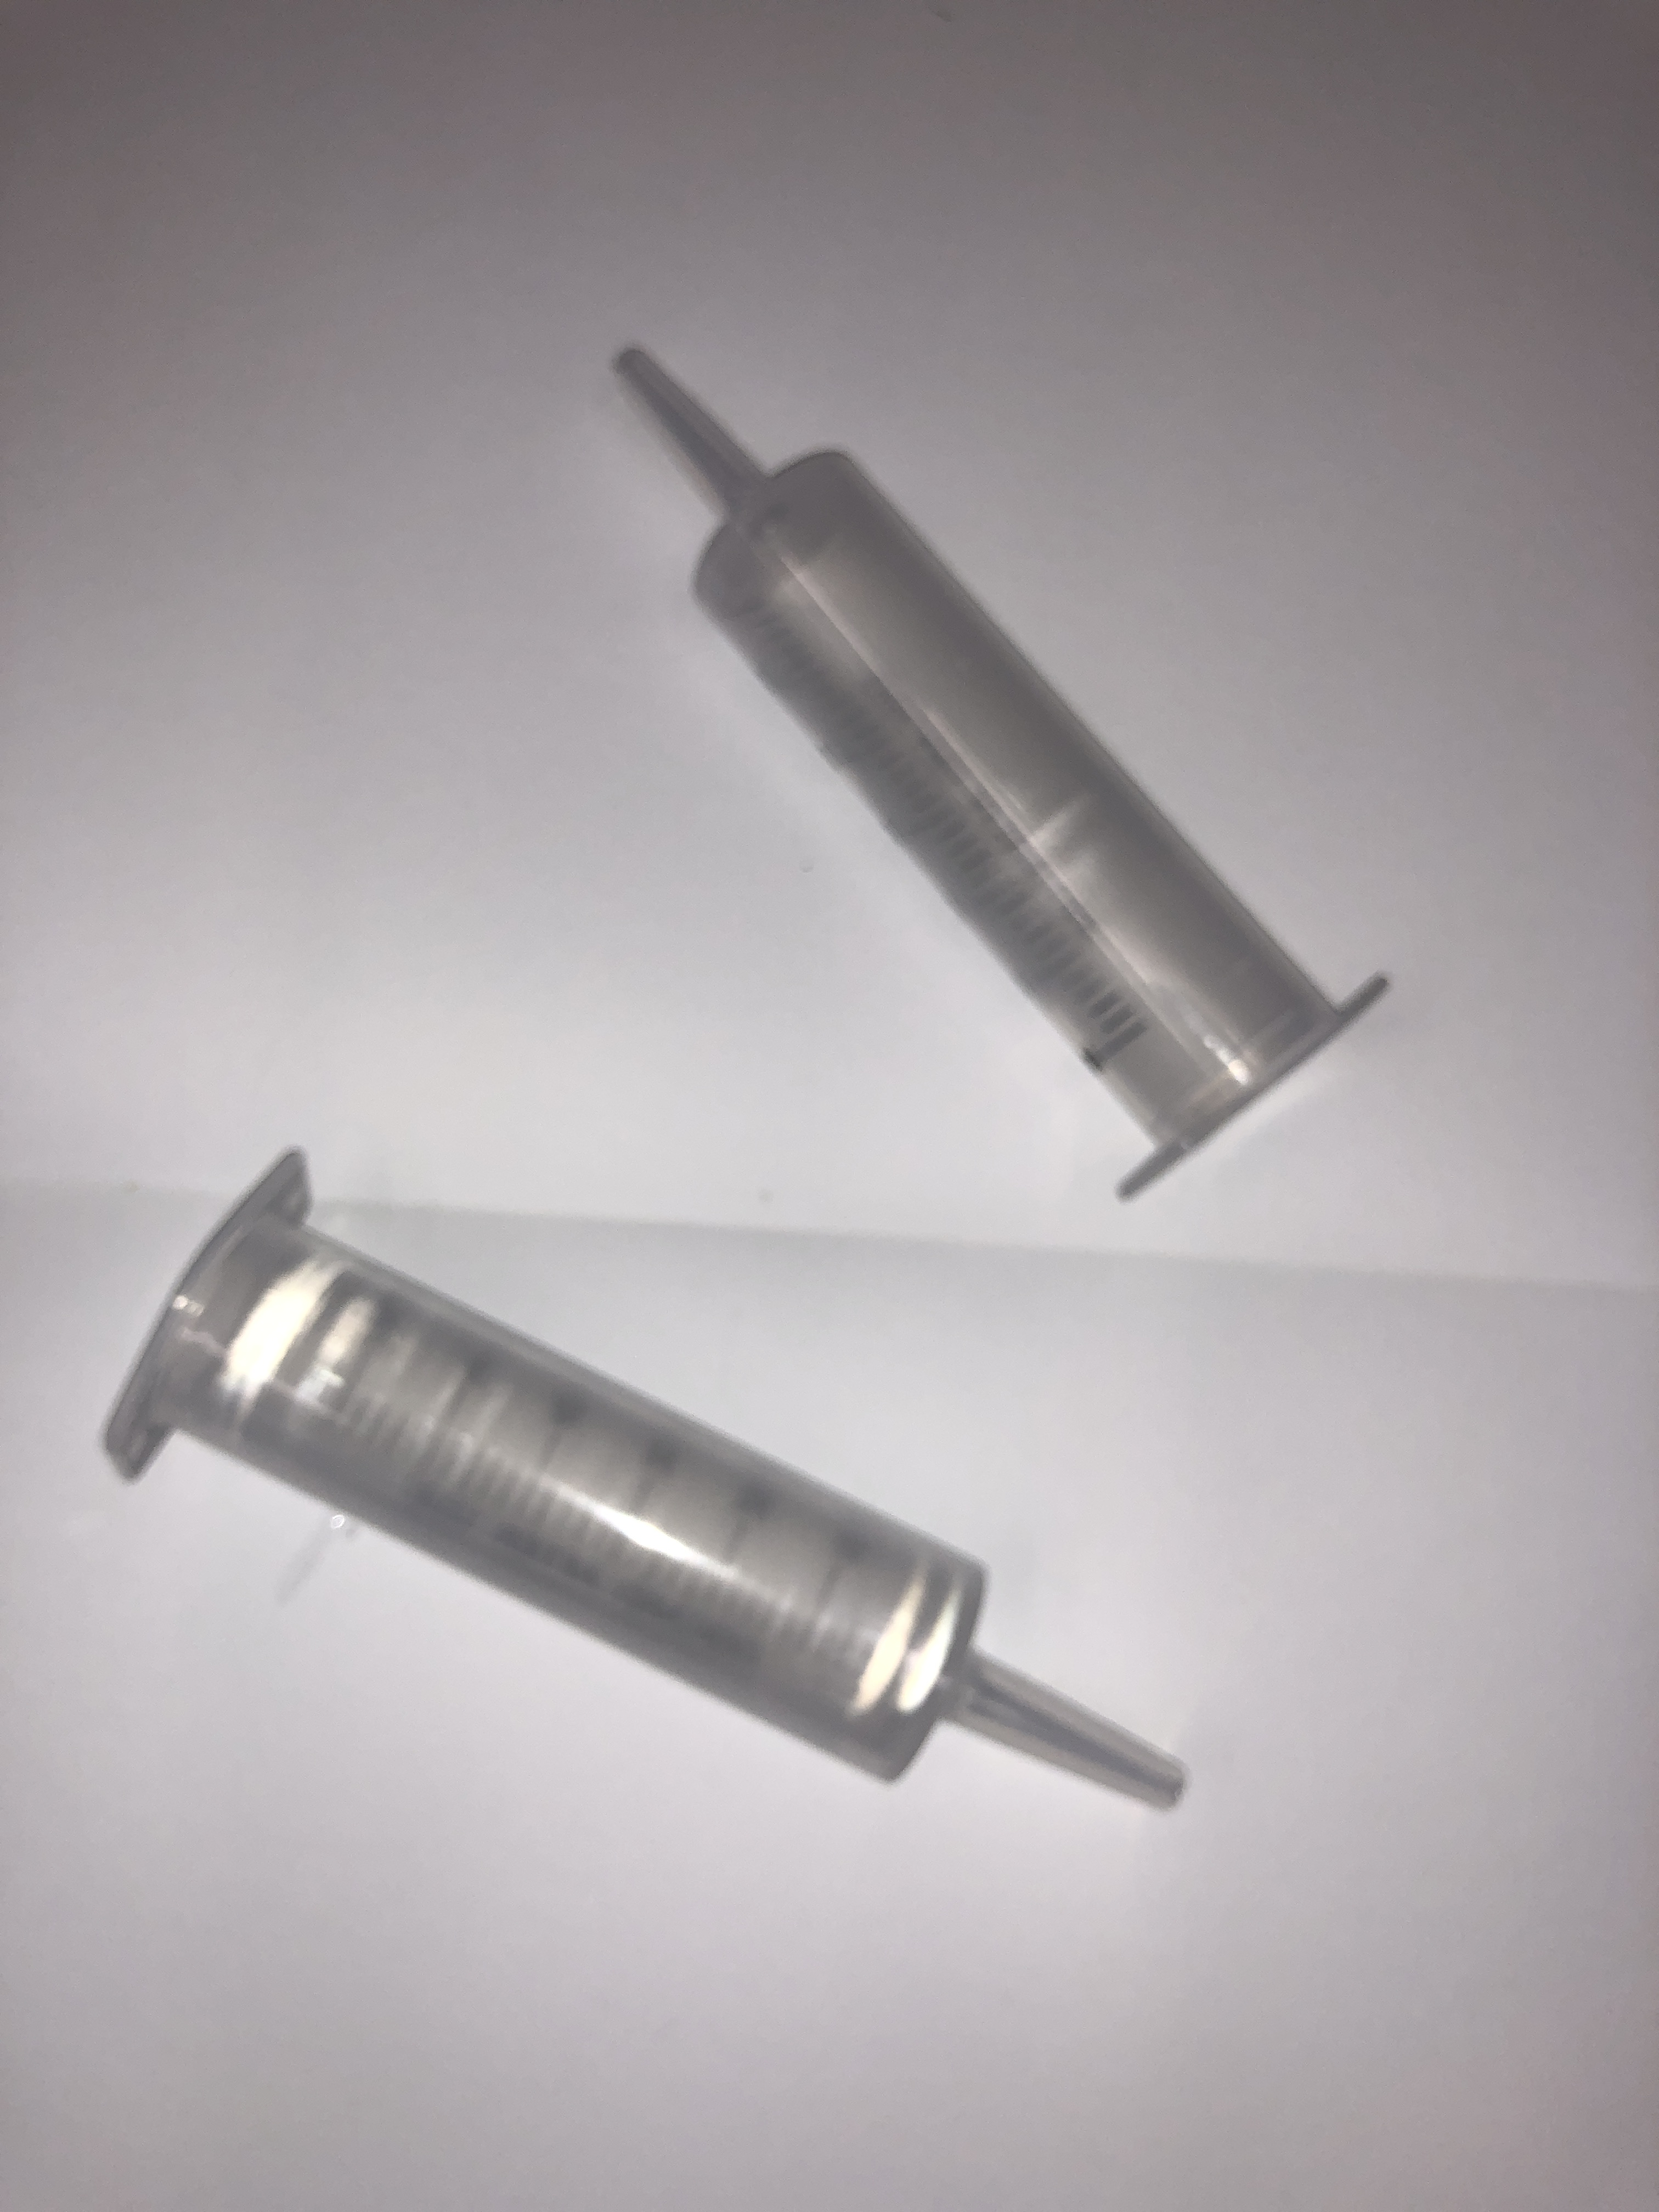syringe: (99, 1139, 1195, 1824), (606, 331, 1401, 1204)
